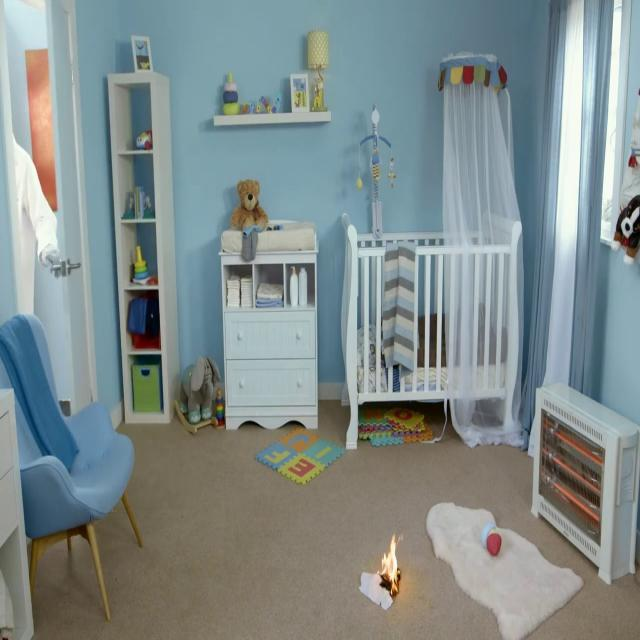Fire: (380, 530, 402, 593)
